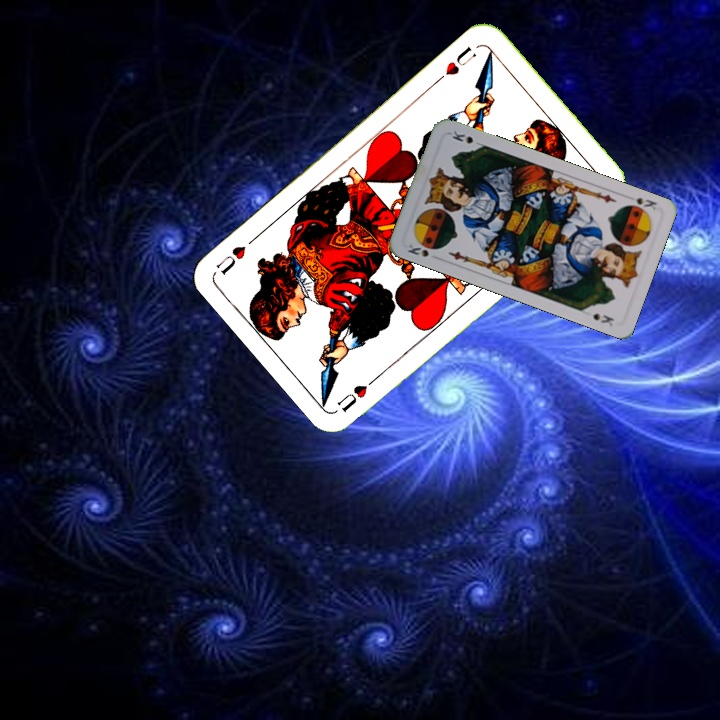HU: (333, 370, 383, 414), (433, 42, 479, 85)
SK: (622, 191, 660, 216), (403, 240, 431, 260)
